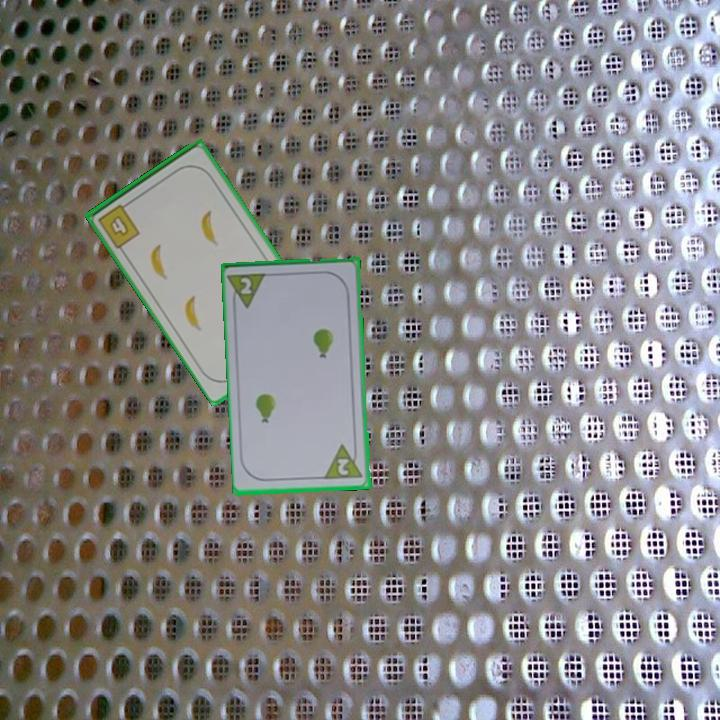2p: (322, 440, 366, 483), (226, 270, 270, 312)
4b: (94, 198, 143, 252)
